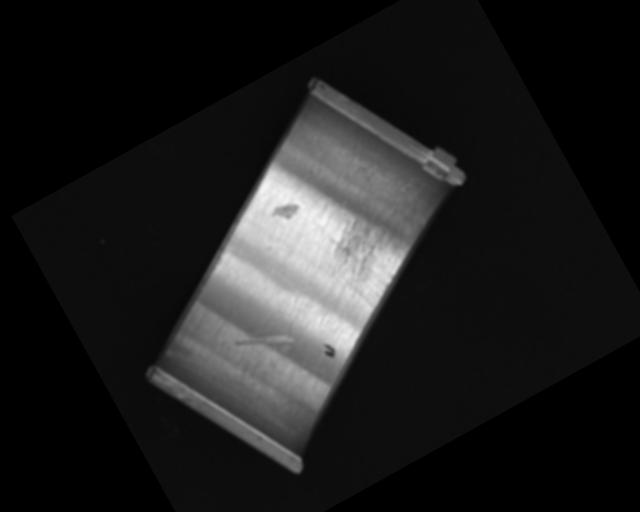blot: (320, 339, 338, 361)
bruise: (268, 197, 303, 226)
nick: (281, 310, 341, 390), (235, 315, 297, 369)
scratch: (307, 185, 447, 321)
